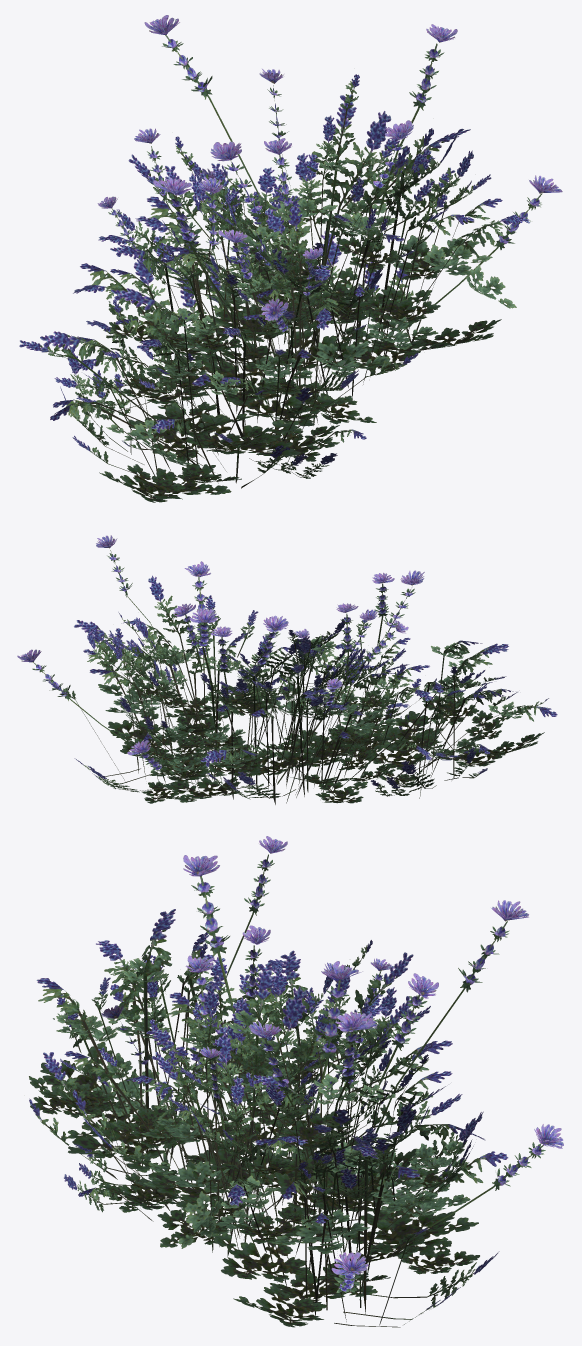
Rendered from 4002_Item_hua_2.FBX.
The picture shows the model from 3 angles, top to bottom: view 1: azimuth 30°, elevation 25°; view 2: azimuth 150°, elevation 25°; view 3: azimuth 270°, elevation 25°; orthographic projection. The views are drawn at different scales.
Visible parts, largest first — view 1: 4002_Item_hua_2; view 2: 4002_Item_hua_2; view 3: 4002_Item_hua_2.
Boxes of the visible parts, box(x1,y1,x2,y2) form: 4002_Item_hua_2: box(19, 15, 562, 502); 4002_Item_hua_2: box(17, 535, 557, 804); 4002_Item_hua_2: box(29, 836, 563, 1327).
Bounding box in the file's own units: 27890 × 13566 × 20051.
